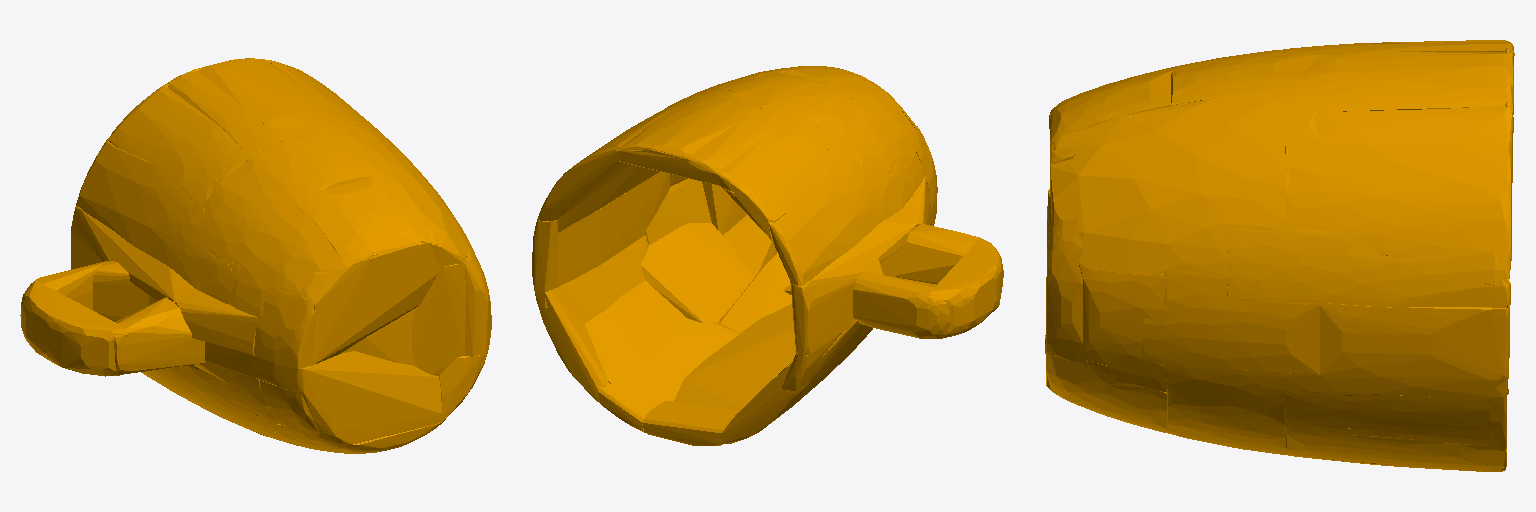
robot.urdf — cup-white:
<?xml version="1.0" ?>
<robot name="cup-white">
  <link name="baseLink">
    <contact>
      <lateral_friction value="1.0"/>
      <inertia_scaling value="3.0"/>
    </contact>
    <inertial>
      <origin rpy="0 0 0" xyz="0.000 0.000 0.000"/>
       <mass value=".1"/>
       <inertia ixx="1" ixy="0.0" ixz="0.0" iyy="1" iyz="0.0" izz="1"/>
    </inertial>
    <visual>
      <origin rpy="0 0 0" xyz="0 0 0"/>
      <geometry>
        <mesh filename="cup/cup-white_whisker.obj" scale="1.0 1.0 1.0"/>
      </geometry>
    </visual>
    <collision>
      <origin rpy="0 0 0" xyz="0 0 0"/>
      <geometry>
        <mesh filename="../collision/cup/cup-white_whisker.obj" scale="1.0 1.0 1.0"/>
      </geometry>
    </collision>
  </link>
</robot>
        

--- What the picture shows (computed from the rendered views, not written in the file) ---
The picture shows the robot from 3 angles, left to right: view 1: azimuth 30°, elevation 25°; view 2: azimuth 150°, elevation 25°; view 3: azimuth 270°, elevation 25°; orthographic projection.
Model cup-white with 1 links and 0 joints (none), rooted at baseLink, posed all joints at 0.
Links seen in each view (by area): view 1: baseLink; view 2: baseLink; view 3: baseLink.
Boxes of the visible links, x1,y1,x2,y2 form: baseLink: (20, 58, 491, 453); baseLink: (532, 66, 1003, 445); baseLink: (1045, 40, 1514, 471).
Size in the robot's own frame: 0.0936 by 0.0755 by 0.0691 metres.
1 mesh visuals loaded from 1 distinct referenced files (1 OBJ).